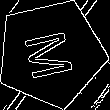M_E: (20, 25, 81, 82)
